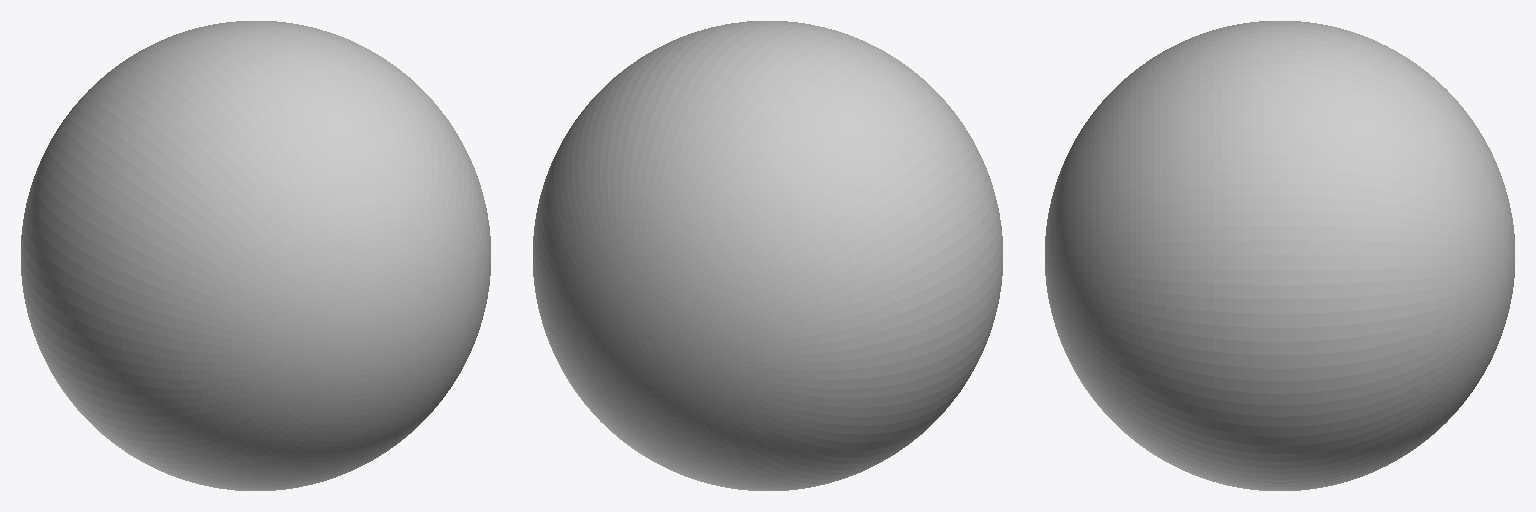
Rendered from spherical_surface_smooth.obj.
3 views of the same model, side by side, from view 1: azimuth 30°, elevation 25°; view 2: azimuth 150°, elevation 25°; view 3: azimuth 270°, elevation 25° (orthographic).
Size of the model in its own units: 2 by 2 by 2.